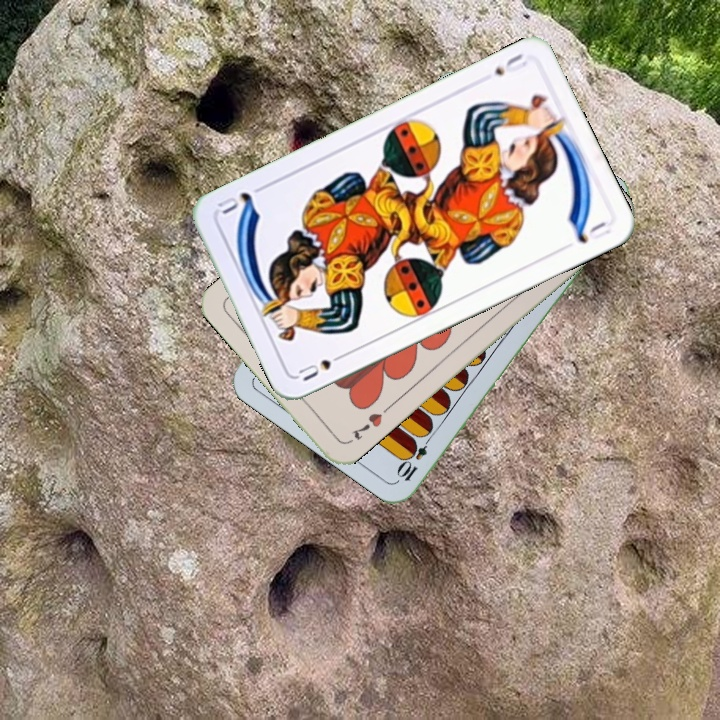E10: (394, 429, 436, 484)
H7: (347, 408, 385, 442)
SU: (294, 348, 349, 384), (490, 49, 530, 78)
